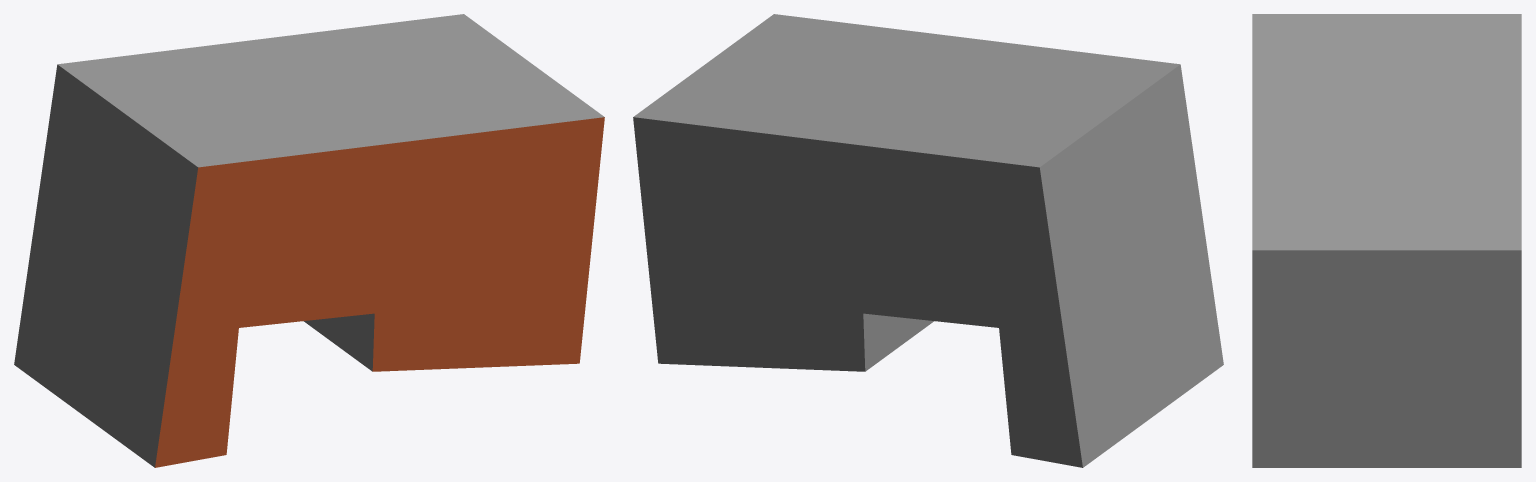
File: construction_3384_assumed_A_Casa_h6m.obj
3 views of the same model, side by side, from view 1: azimuth 30°, elevation 25°; view 2: azimuth 150°, elevation 25°; view 3: azimuth 270°, elevation 25° (orthographic). The views are drawn at different scales.
Visible parts, largest first — view 1: construction_3384_assumed_A_Casa; view 2: construction_3384_assumed_A_Casa; view 3: construction_3384_assumed_A_Casa.
Part boxes in pixels (box(x1,y1,x2,y2)): construction_3384_assumed_A_Casa: box(14, 14, 604, 467); construction_3384_assumed_A_Casa: box(633, 14, 1223, 467); construction_3384_assumed_A_Casa: box(1252, 14, 1521, 467).
Size of the model in its own units: 11.06 by 6.92 by 6.
